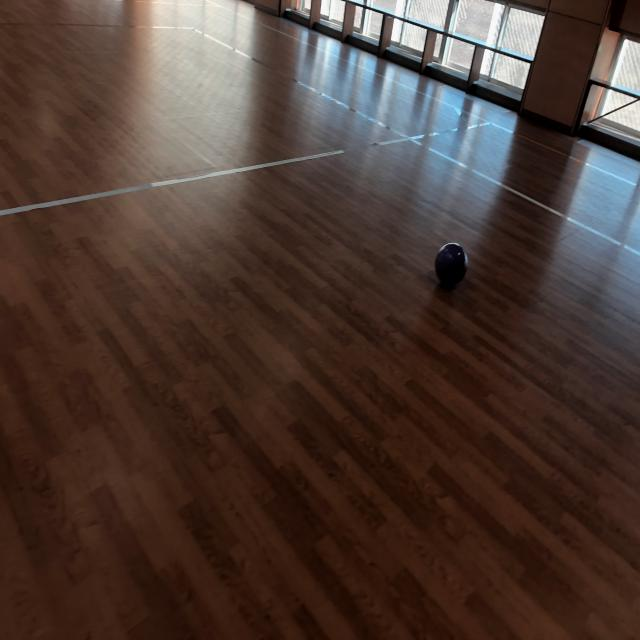purple_ball: (434, 242, 468, 290)
